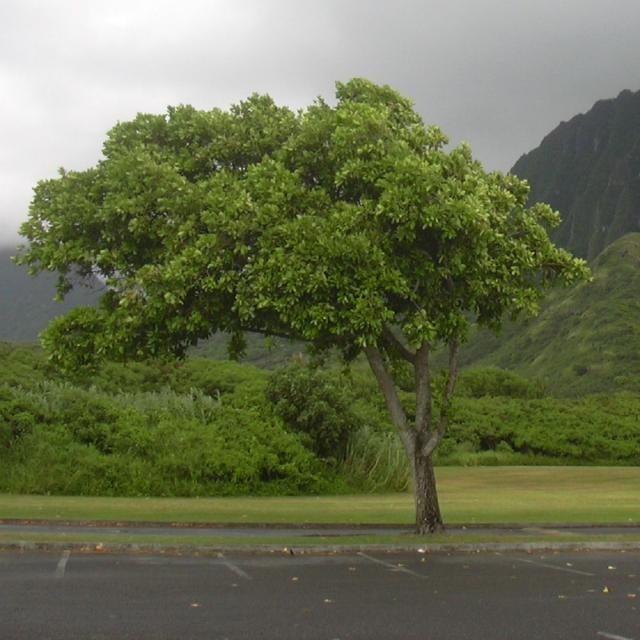Medicinal-Rose Apple: (24, 71, 597, 375), (259, 53, 562, 556)
